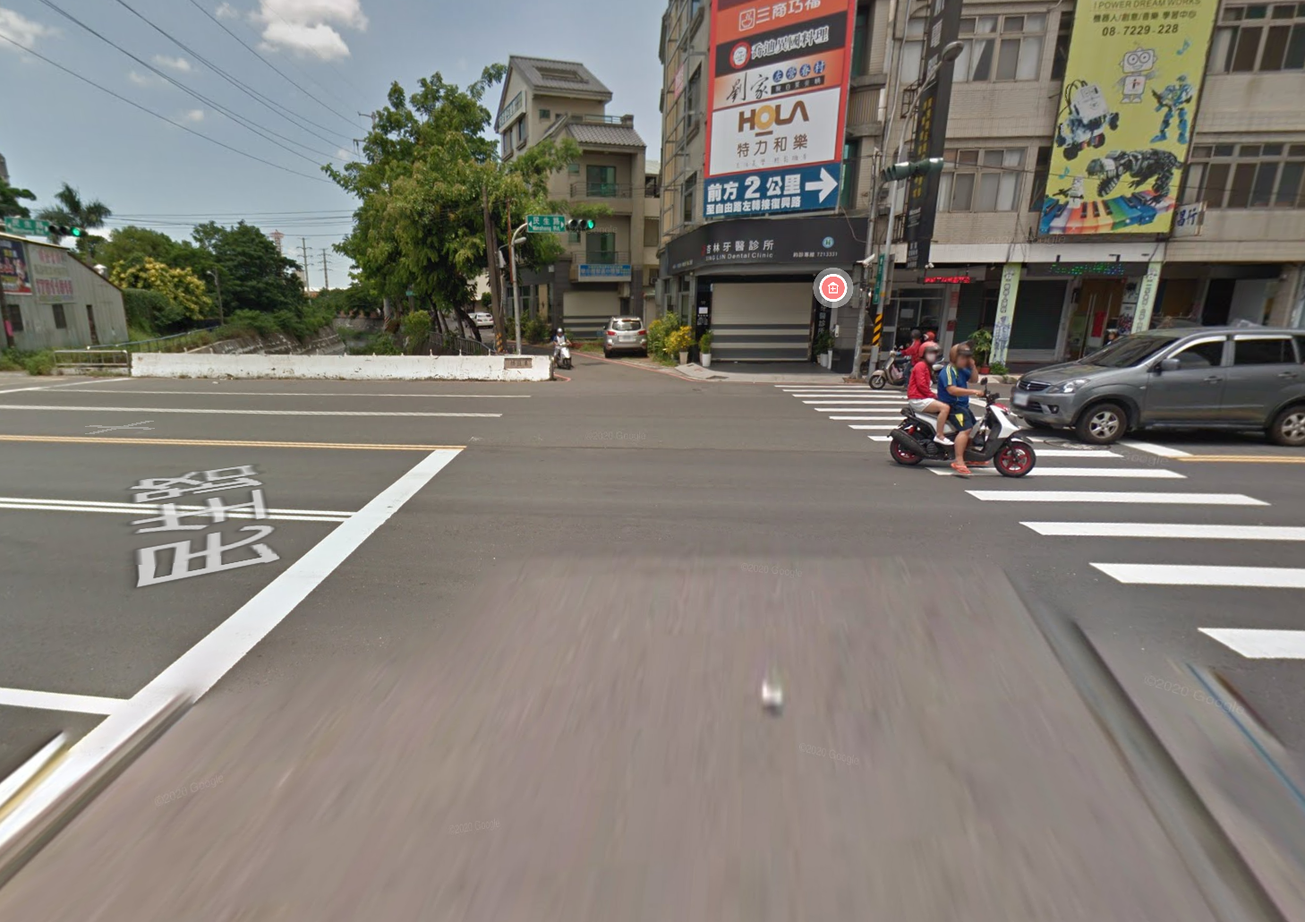green: (566, 212, 596, 233)
